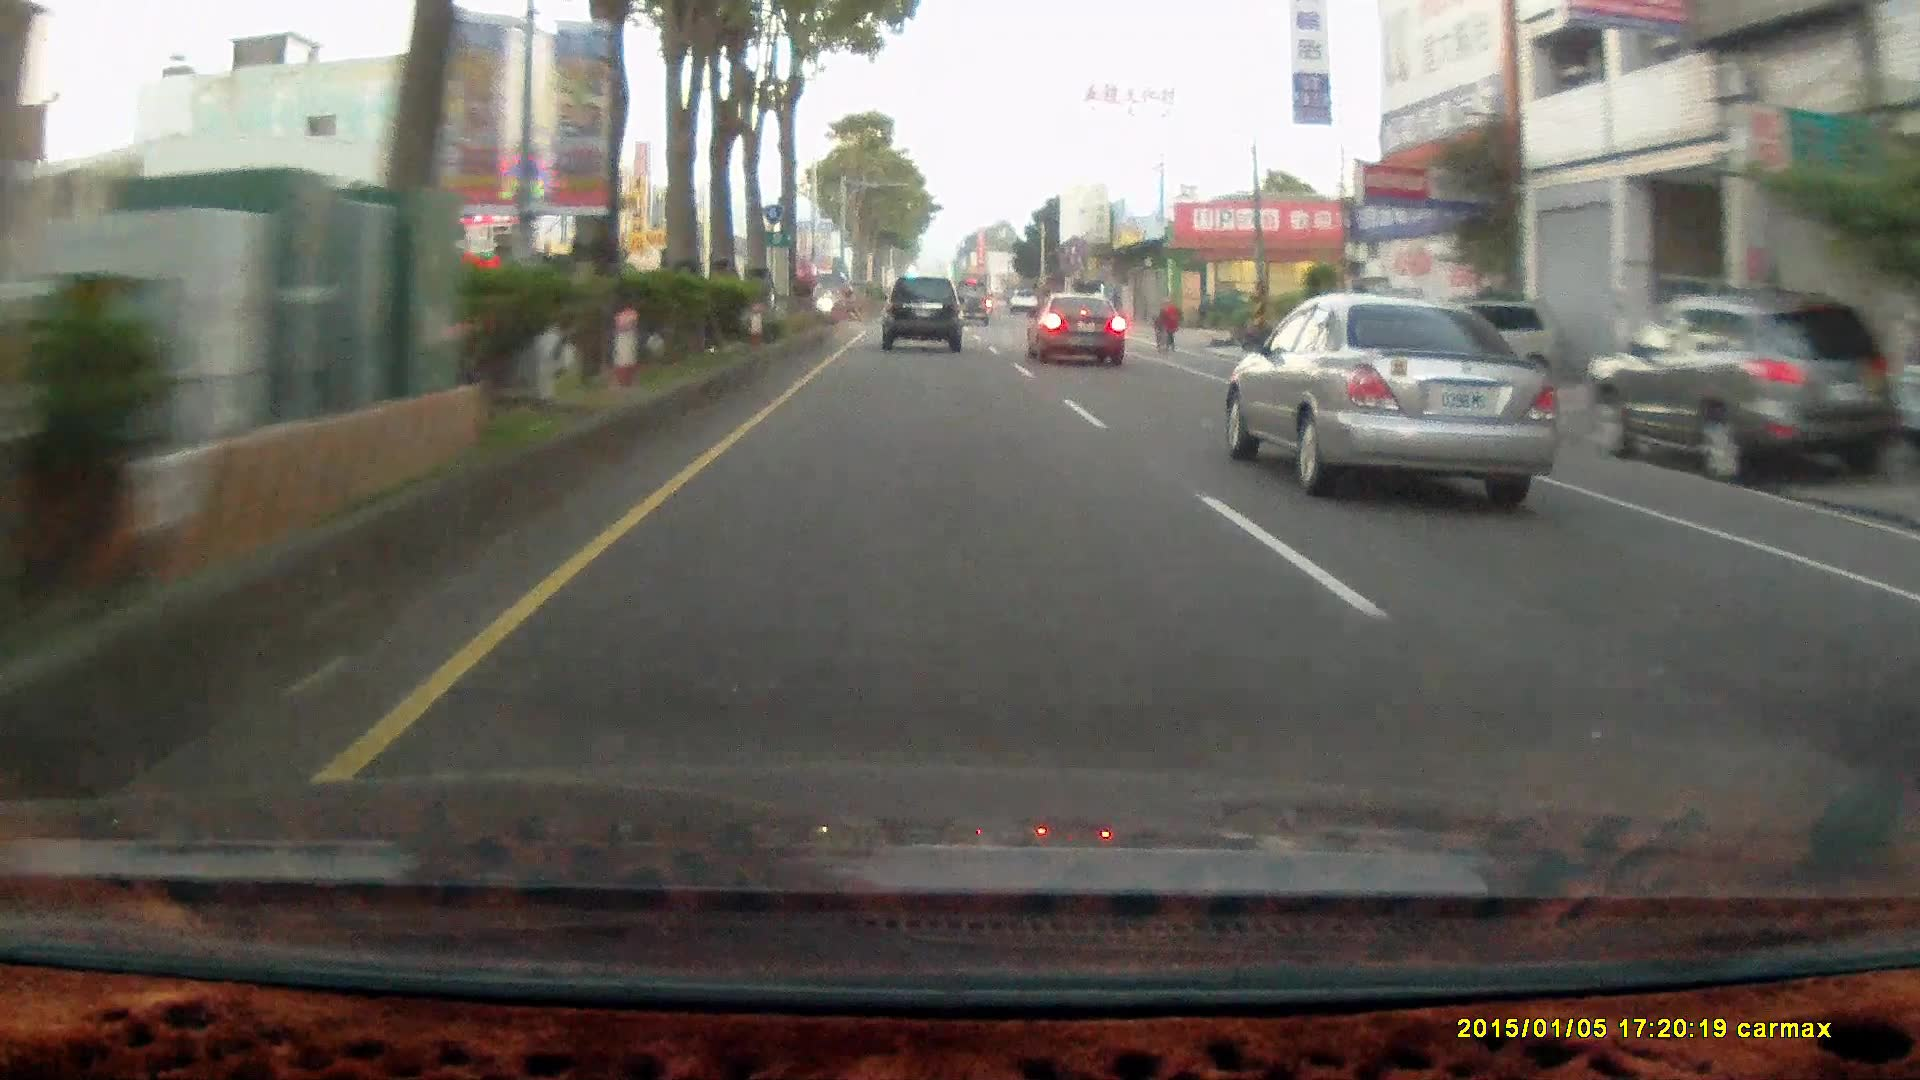pedestrian: (1160, 296, 1182, 350), (1161, 299, 1182, 351)
vehicle: (1230, 296, 1559, 491), (1584, 293, 1896, 486), (1584, 292, 1895, 484), (1377, 296, 1564, 390), (1025, 298, 1130, 374), (1026, 290, 1125, 366), (881, 279, 969, 354), (881, 277, 962, 352), (954, 283, 993, 329)
